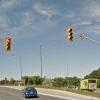Traffic light: (61, 18, 78, 49)
